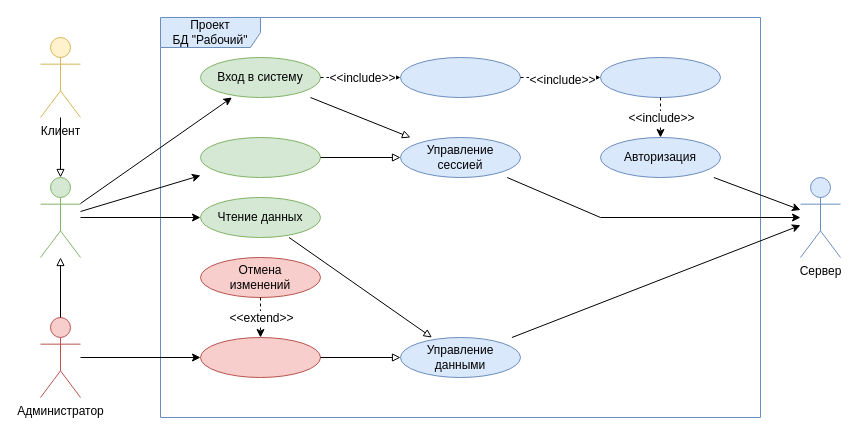
Image size: 859x436. Some labels were removed from this diagram. Each missing label, with the centre of its shape:
"Аутентификация" goes at [660,77].
"Внесение изменений" goes at [260,357].
"Выйти из системы" goes at [260,157].
"Идентификация" goes at [460,77].
"Пользователь" goes at [60,217].
